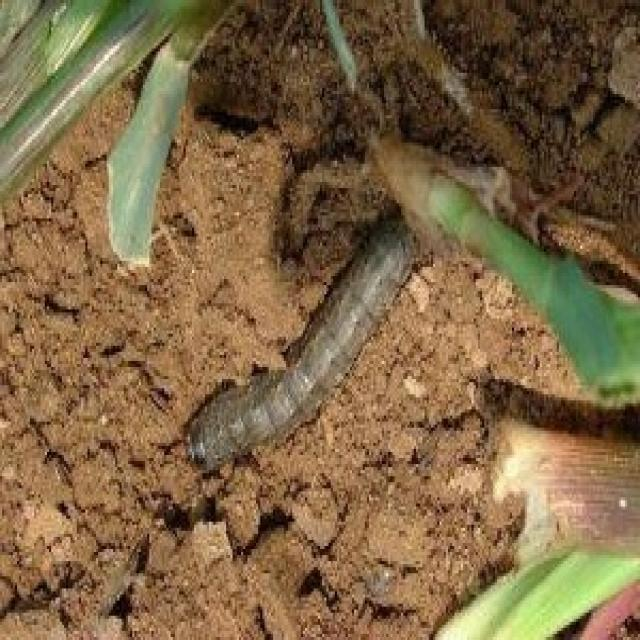black cutworm: (180, 226, 419, 481)
